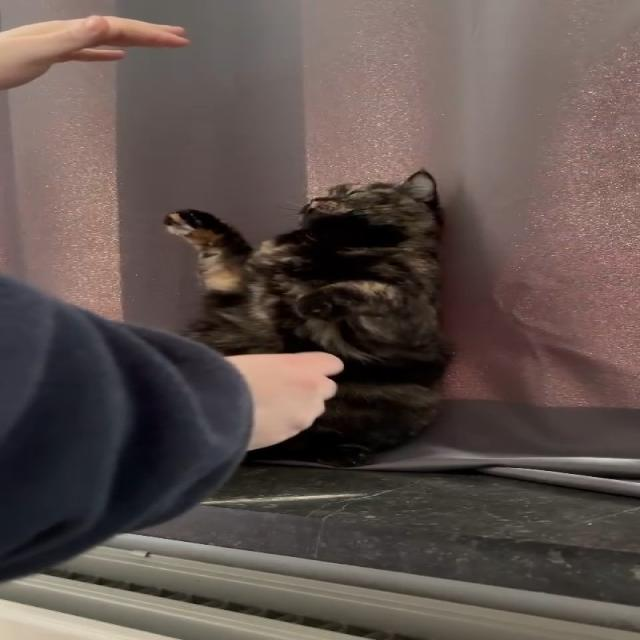authorized: (161, 167, 456, 468)
